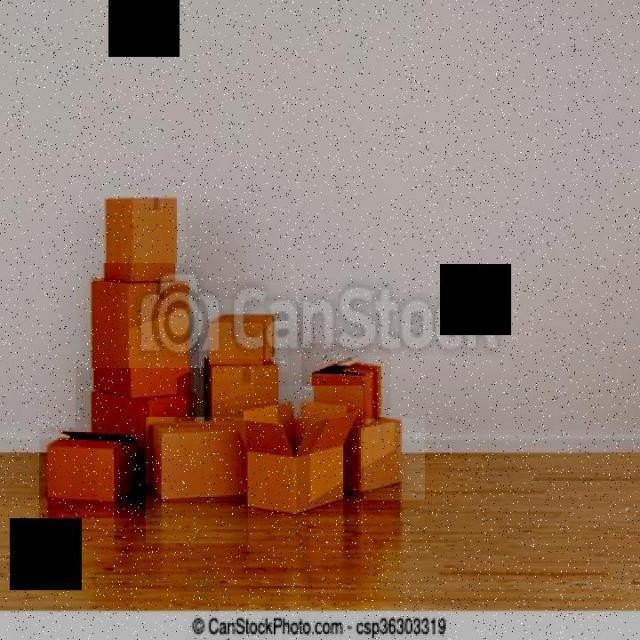box: (230, 386, 364, 534), (84, 263, 208, 408), (76, 368, 204, 503), (146, 417, 247, 543), (39, 428, 147, 518), (302, 343, 392, 438), (105, 194, 186, 284), (344, 418, 425, 499), (202, 359, 281, 441), (200, 299, 288, 372)
